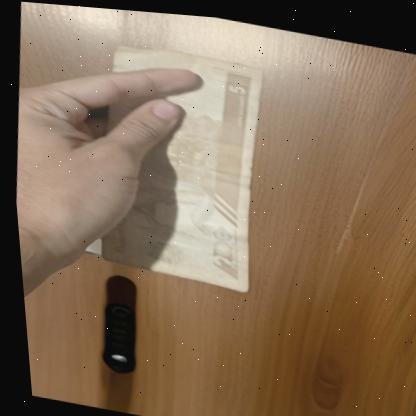vef_back: (82, 35, 277, 292)
